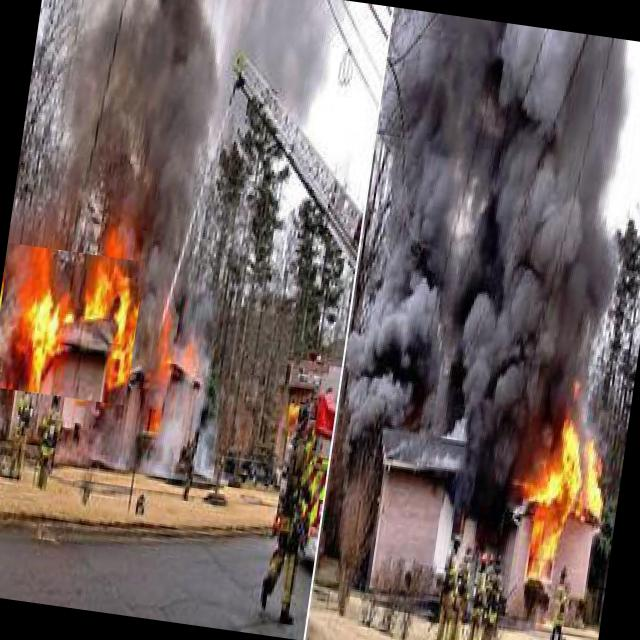fire: (482, 416, 616, 618), (0, 243, 145, 406)
